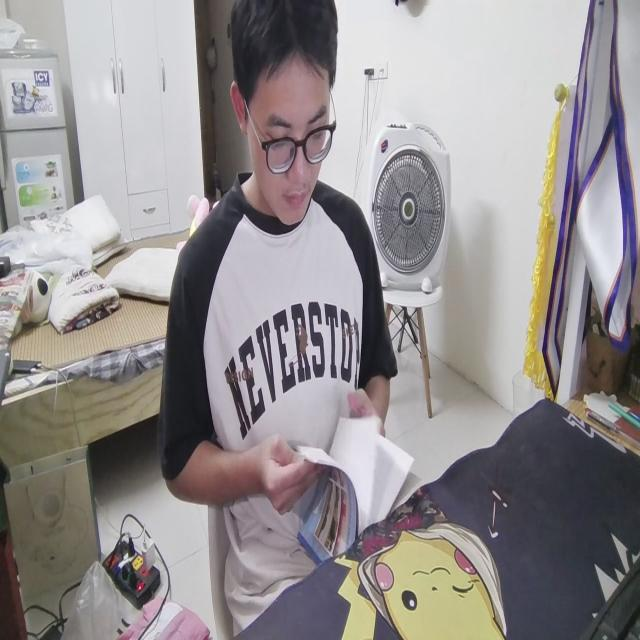book: (285, 398, 413, 577)
student: (149, 0, 398, 640)
